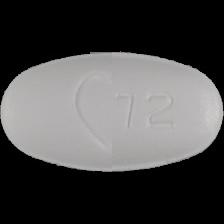63629-3373: (0, 0, 224, 224)
